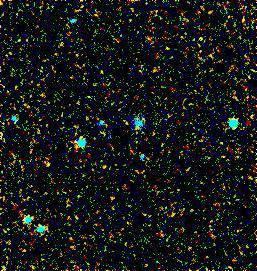star: (182, 25, 212, 55)
